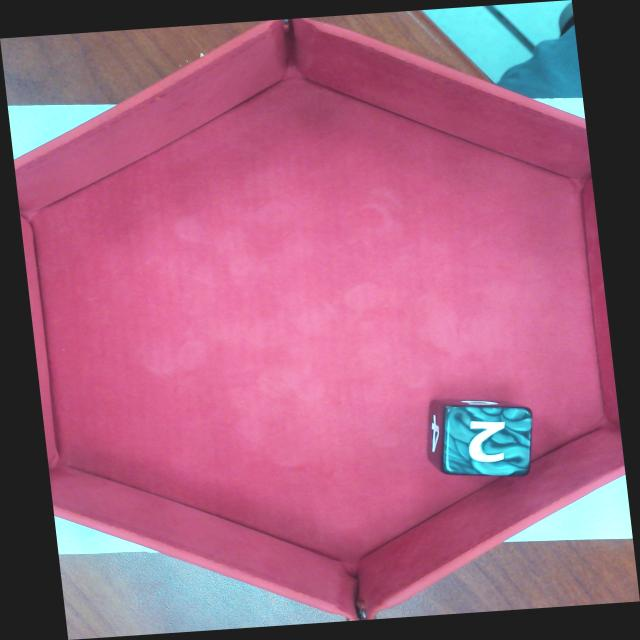dice: (441, 403, 535, 480)
